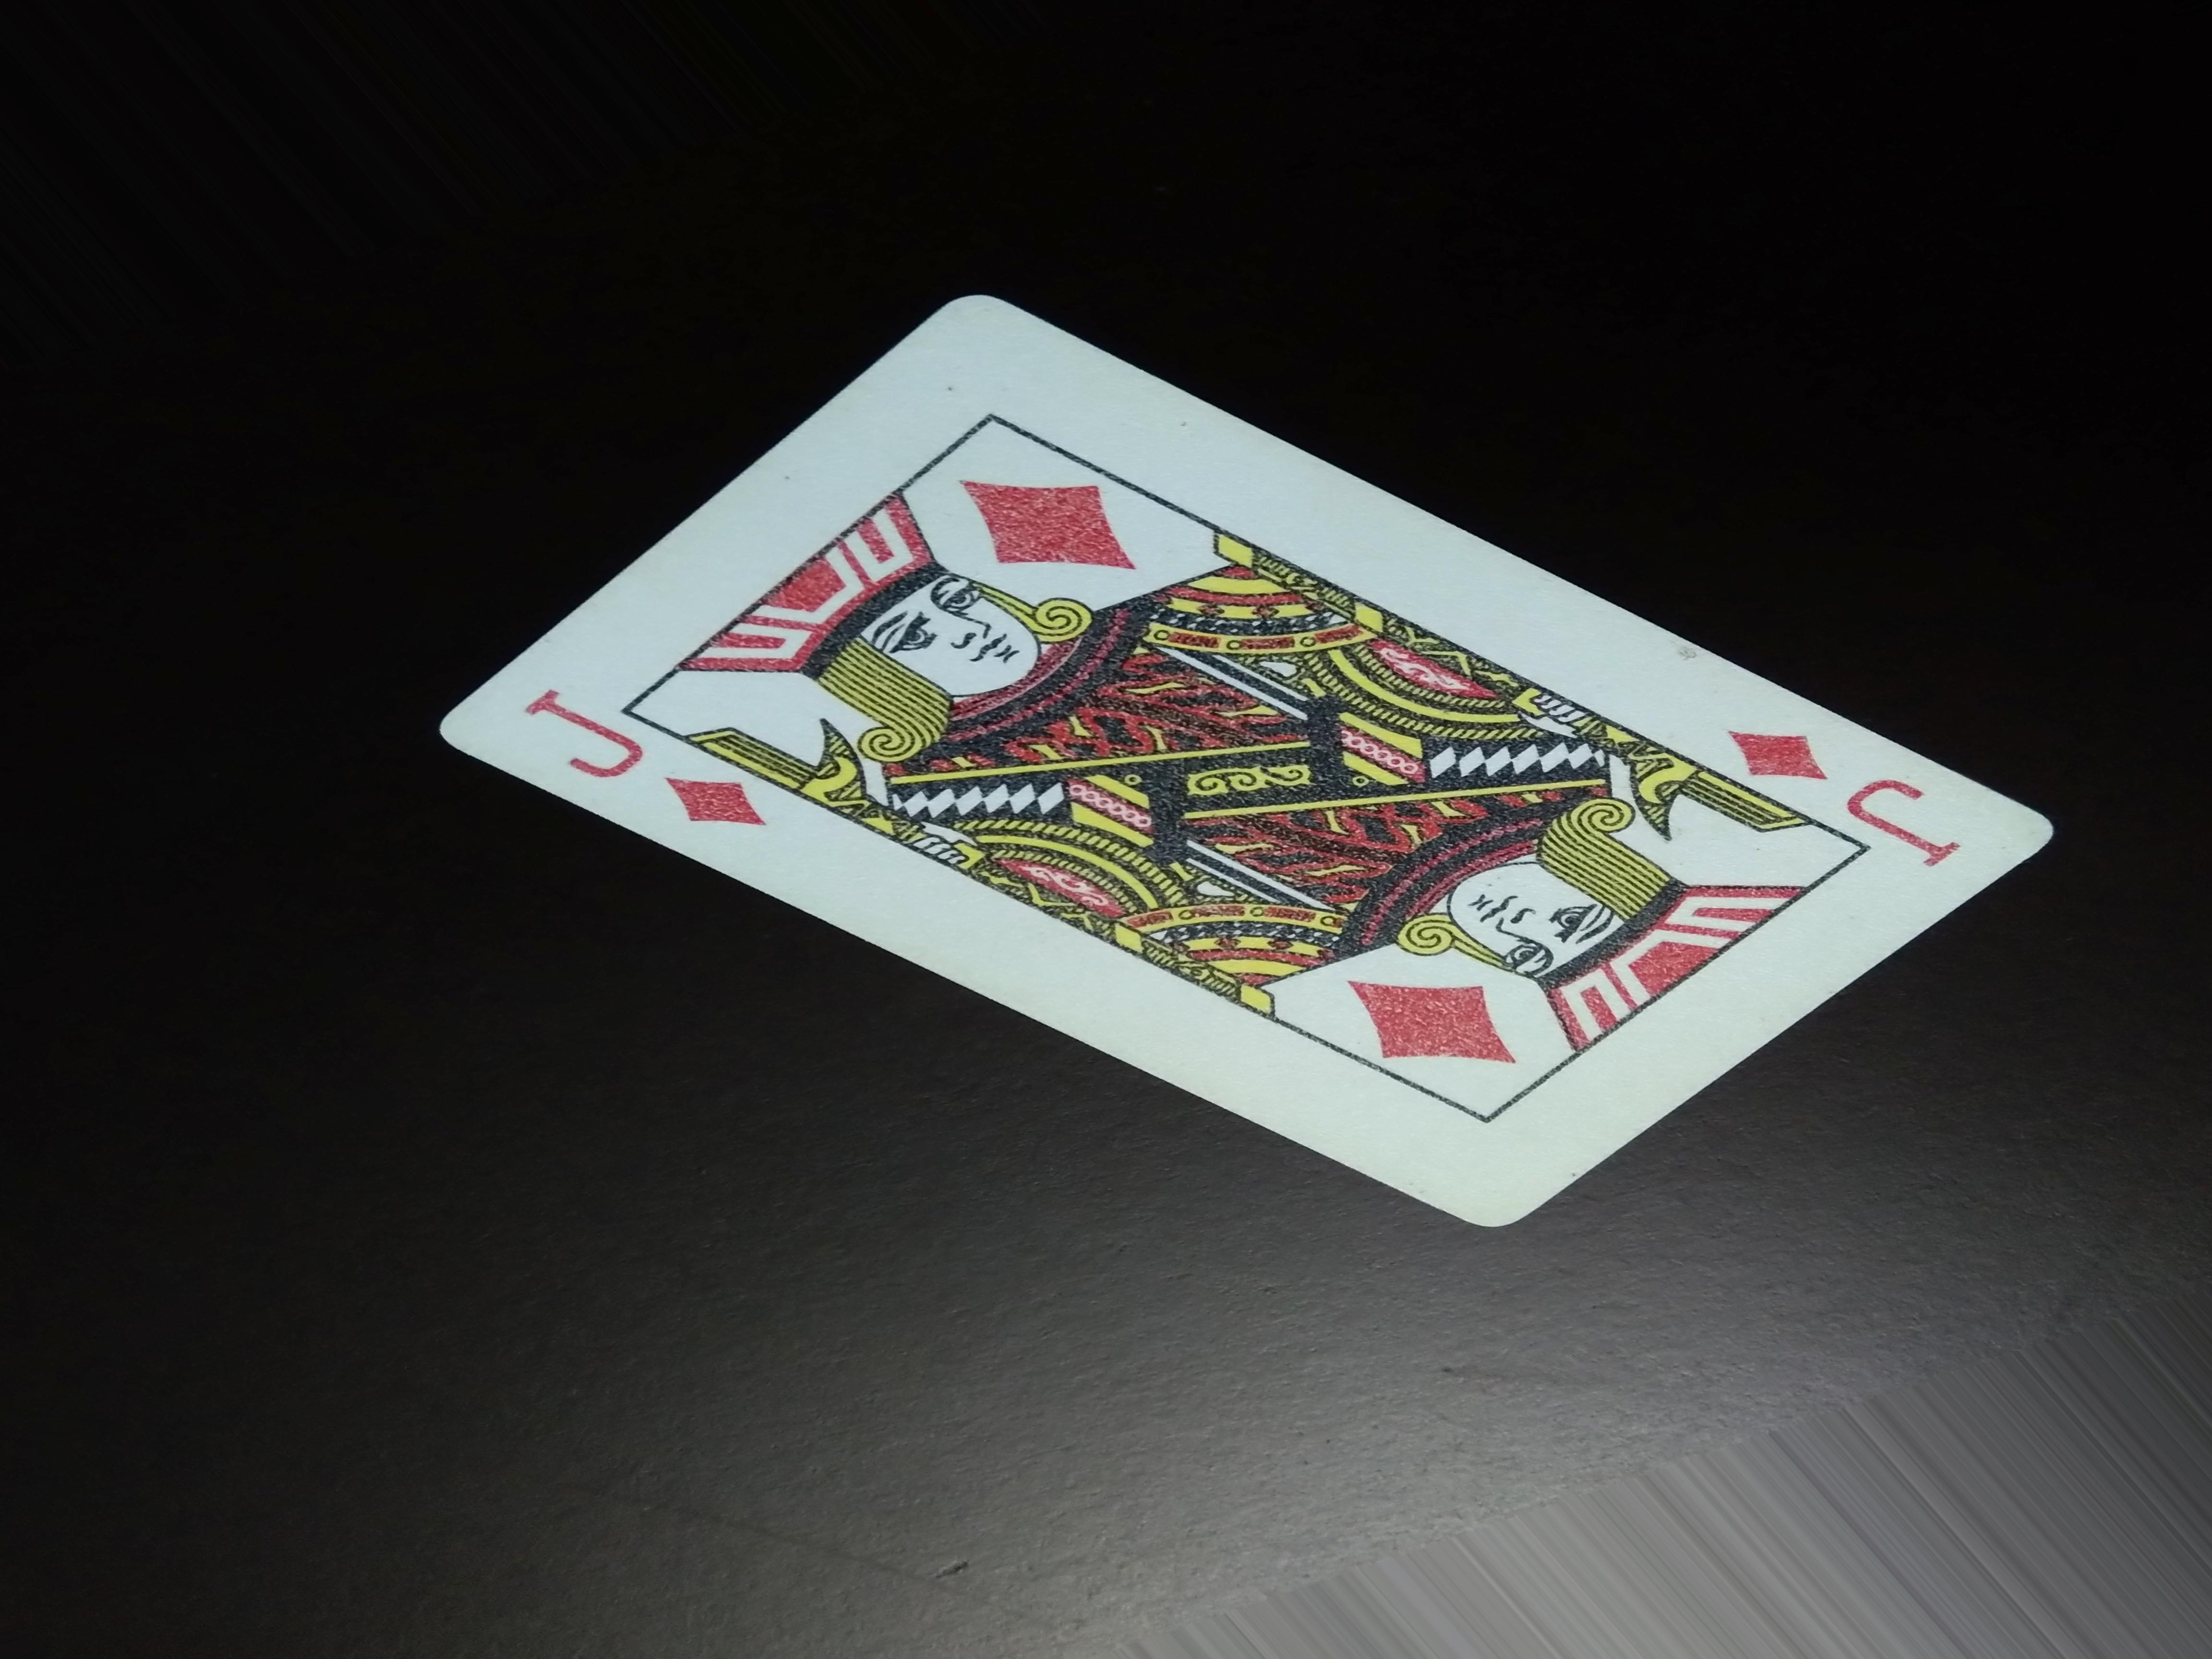JD: (503, 683, 763, 849)
